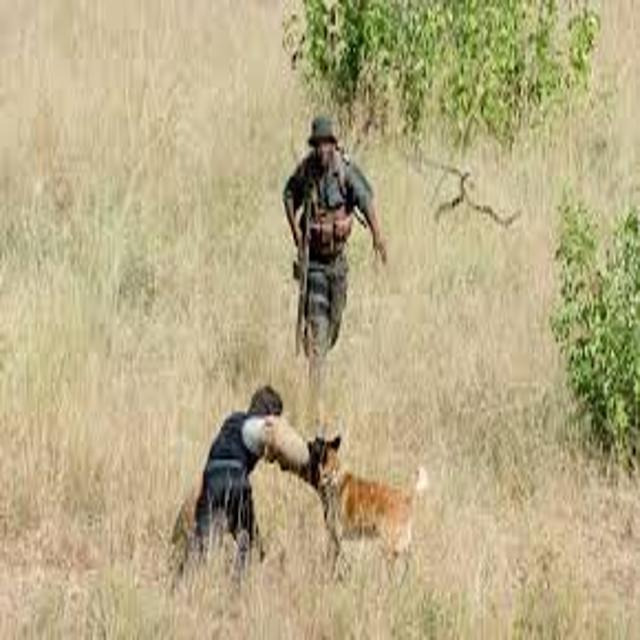dog: (269, 413, 446, 619)
poacher: (245, 93, 422, 399), (138, 369, 340, 613)
